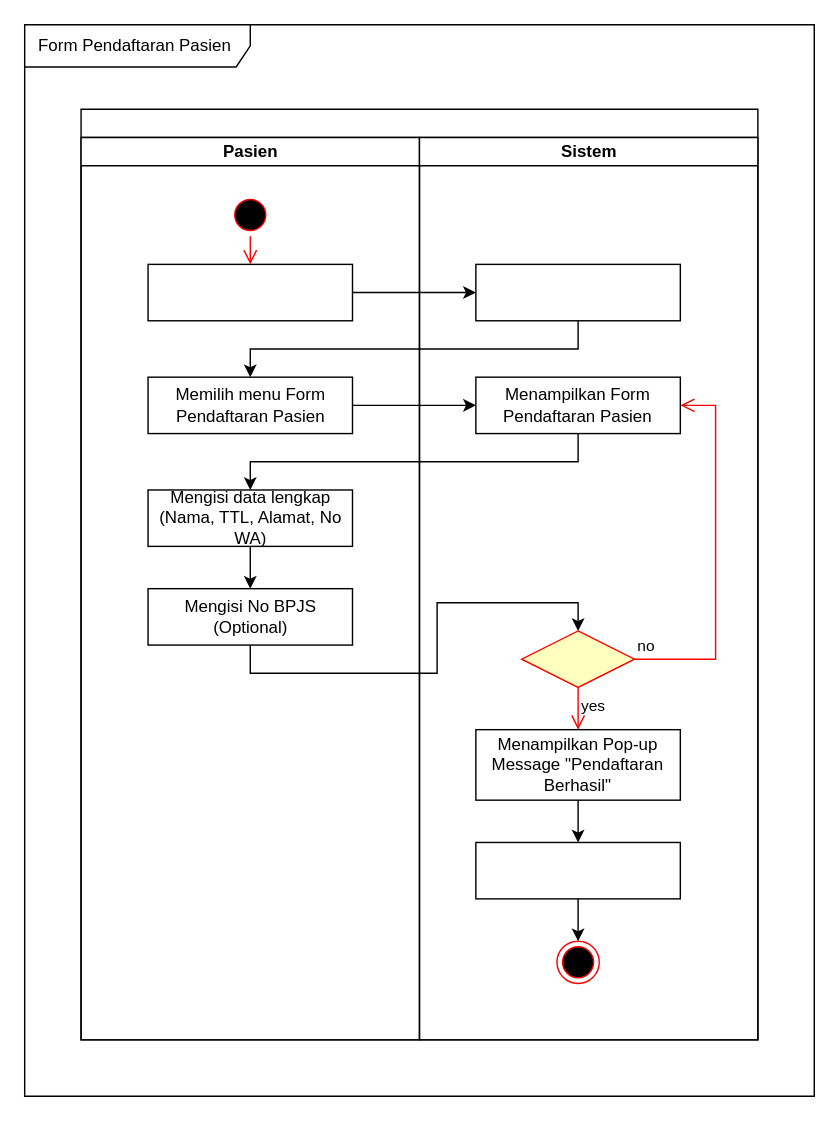
This 839x1121 diagram has some shape labels left out. The shapes that lost their labels are listed below. From the top down, each one's centre as x and y in pixels, then its label:
At (x=249, y=292): "Membuka halaman Home KlinikGo".
At (x=577, y=292): "Menampilkan halaman Home KlinikGo".
At (x=577, y=658): "valid?".
At (x=577, y=870): "Menampilkan halaman Home".
